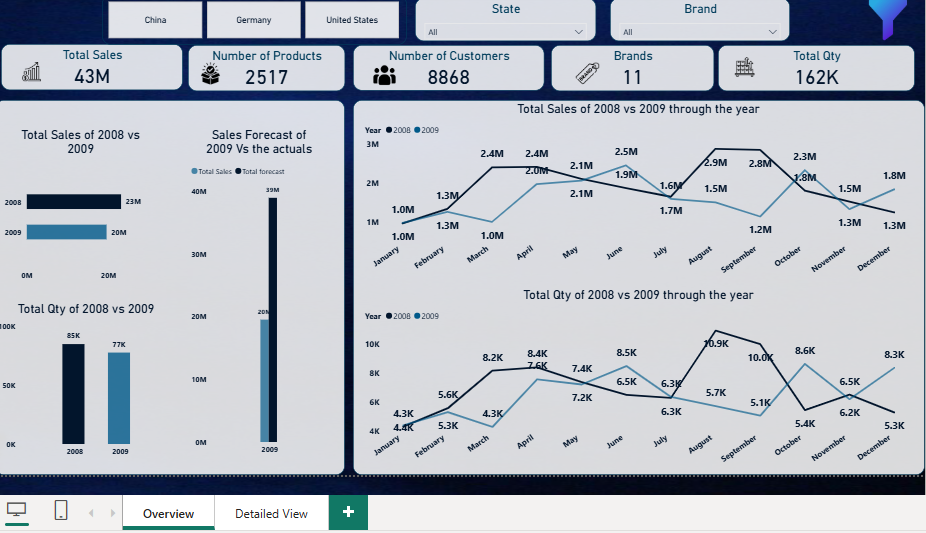

The page's visual inventory and layout, read from the dashboard file:
{"tool":"powerbi","page":{"name":"Overview","canvas":[1550,800],"ordinal":0},"visuals":[{"type":"card","title":"Total Sales","fields":{"Values":["Sales.Total Sales"]},"box":[10,81.7,303.3,76.7],"z":0},{"type":"card","title":"Number of Products","fields":{"Values":["CountNonNull(Products.ProductKey)"]},"box":[321.7,83.3,261.7,76.7],"z":1000},{"type":"card","title":"Number of Customers","fields":{"Values":["Count(Sales.CustomerKey)"]},"box":[596.7,82.9,318.7,76.4],"z":2000},{"type":"card","title":"Brands","fields":{"Values":["Count(Products.Brand)"]},"box":[926.7,83.3,271.7,76.7],"z":3000},{"type":"image","box":[321.7,106.7,75,48.3],"z":4000},{"type":"image","box":[23.3,106.7,75,41.7],"z":5000},{"type":"image","box":[611.4,110.6,74.8,47.2],"z":6000},{"type":"image","box":[950,106.7,75,48.3],"z":7000},{"type":"shape","box":[596.7,175,953.3,625],"z":8000},{"type":"shape","box":[0,175,583.3,625],"z":9000},{"type":"clusteredBarChart","title":"Total Sales of 2008 vs 2009","fields":{"Category":["Year.Year"],"Y":["Sales.Total Sales"]},"box":[9.8,221.1,265,263.4],"z":10000},{"type":"lineChart","title":"Total Sales of 2008 vs 2009 through the year","fields":{"Series":["Year.Year"],"Y":["Sales.Total Sales"],"Category":["Date.Date.Variation.Date Hierarchy.Quarter","Date.Date.Variation.Date Hierarchy.Month","Date.Date.Variation.Date Hierarchy.Day"]},"box":[611.7,178.3,921.7,306.7],"z":11000},{"type":"clusteredColumnChart","title":"Sales Forecast of 2009 Vs the actuals","fields":{"Y":["Sales.Total Sales","Forecast.Total forecast"],"Category":["Date.Date.Variation.Date Hierarchy.Year"]},"box":[321.7,221.7,236.7,553.3],"z":12000},{"type":"card","title":"Total Qty","fields":{"Values":["Sum(Sales.Quantity)"]},"box":[1205,83.3,328.3,76.7],"z":13000},{"type":"image","box":[1205,98.3,88.3,43.3],"z":14000},{"type":"advancedSlicerVisual","fields":{"Values":["Country.CountryRegion"]},"box":[178.3,0,508.3,83.3],"z":15000},{"type":"slicer","title":"State","fields":{"Values":["Customers.State"]},"box":[700,5,301.7,71.7],"z":16000},{"type":"image","box":[1441.5,0,93.3,82.5],"z":18000},{"type":"clusteredColumnChart","title":"Total Qty of 2008 vs 2009","fields":{"Category":["Year.Year"],"Y":["Sum(Sales.Quantity)"]},"box":[0,511.7,303.3,266.7],"z":19000},{"type":"lineChart","title":"Total Qty of 2008 vs 2009 through the year","fields":{"Series":["Year.Year"],"Category":["Date.Date.Variation.Date Hierarchy.Quarter","Date.Date.Variation.Date Hierarchy.Month","Date.Date.Variation.Date Hierarchy.Day"],"Y":["Sum(Sales.Quantity)"]},"box":[611.7,488.3,921.7,311.7],"z":20000},{"type":"slicer","title":"Brand","fields":{"Values":["Products.Brand"]},"box":[1025,5,300,71.7],"z":20001}]}

Visuals, with their boxes on the page's 1550x800 design canvas (x1, y1, x2, y2). These are canvas units, not pixel positions in the 926x533 screenshot, which may show the page scaled, cropped or inside an application window:
"Total Sales" card: {"x1": 10, "y1": 82, "x2": 313, "y2": 158}
"Number of Products" card: {"x1": 322, "y1": 83, "x2": 583, "y2": 160}
"Number of Customers" card: {"x1": 597, "y1": 83, "x2": 915, "y2": 159}
"Brands" card: {"x1": 927, "y1": 83, "x2": 1198, "y2": 160}
image: {"x1": 322, "y1": 107, "x2": 397, "y2": 155}
image: {"x1": 23, "y1": 107, "x2": 98, "y2": 148}
image: {"x1": 611, "y1": 111, "x2": 686, "y2": 158}
image: {"x1": 950, "y1": 107, "x2": 1025, "y2": 155}
shape: {"x1": 597, "y1": 175, "x2": 1550, "y2": 800}
shape: {"x1": 0, "y1": 175, "x2": 583, "y2": 800}
"Total Sales of 2008 vs 2009" clusteredBarChart: {"x1": 10, "y1": 221, "x2": 275, "y2": 484}
"Total Sales of 2008 vs 2009 through the year" lineChart: {"x1": 612, "y1": 178, "x2": 1533, "y2": 485}
"Sales Forecast of 2009 Vs the actuals" clusteredColumnChart: {"x1": 322, "y1": 222, "x2": 558, "y2": 775}
"Total Qty" card: {"x1": 1205, "y1": 83, "x2": 1533, "y2": 160}
image: {"x1": 1205, "y1": 98, "x2": 1293, "y2": 142}
advancedSlicerVisual - Country.CountryRegion: {"x1": 178, "y1": 0, "x2": 687, "y2": 83}
"State" slicer: {"x1": 700, "y1": 5, "x2": 1002, "y2": 77}
image: {"x1": 1442, "y1": 0, "x2": 1535, "y2": 82}
"Total Qty of 2008 vs 2009" clusteredColumnChart: {"x1": 0, "y1": 512, "x2": 303, "y2": 778}
"Total Qty of 2008 vs 2009 through the year" lineChart: {"x1": 612, "y1": 488, "x2": 1533, "y2": 800}
"Brand" slicer: {"x1": 1025, "y1": 5, "x2": 1325, "y2": 77}
